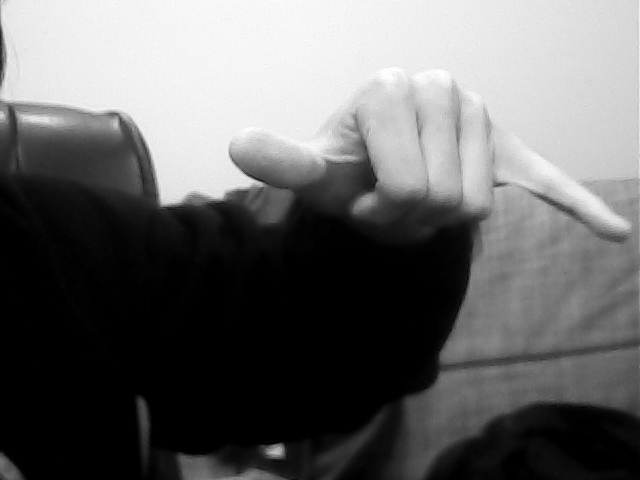aloha: (226, 63, 634, 262)
